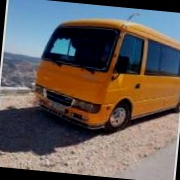bus: (28, 11, 180, 144)
